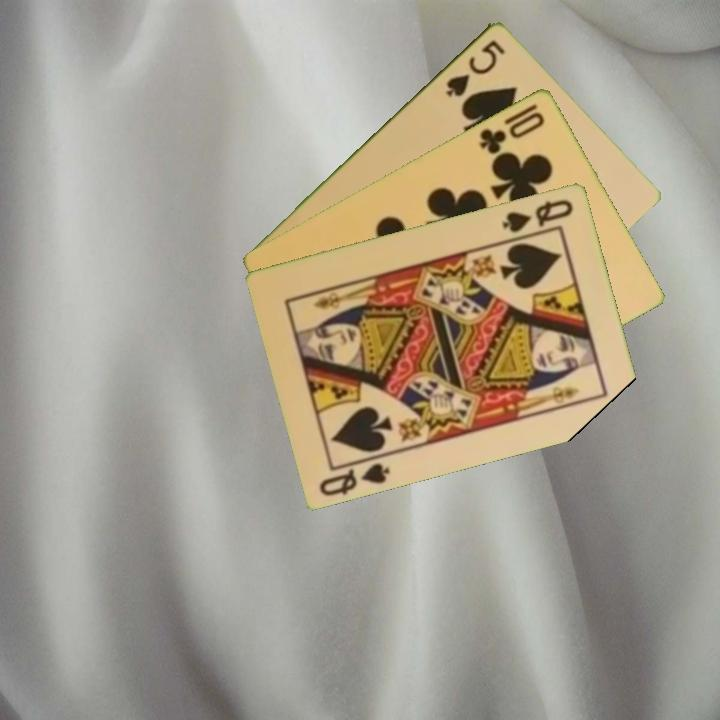10c: (476, 100, 548, 157)
5s: (441, 35, 508, 100)
Qs: (499, 195, 577, 235), (316, 459, 393, 499)
